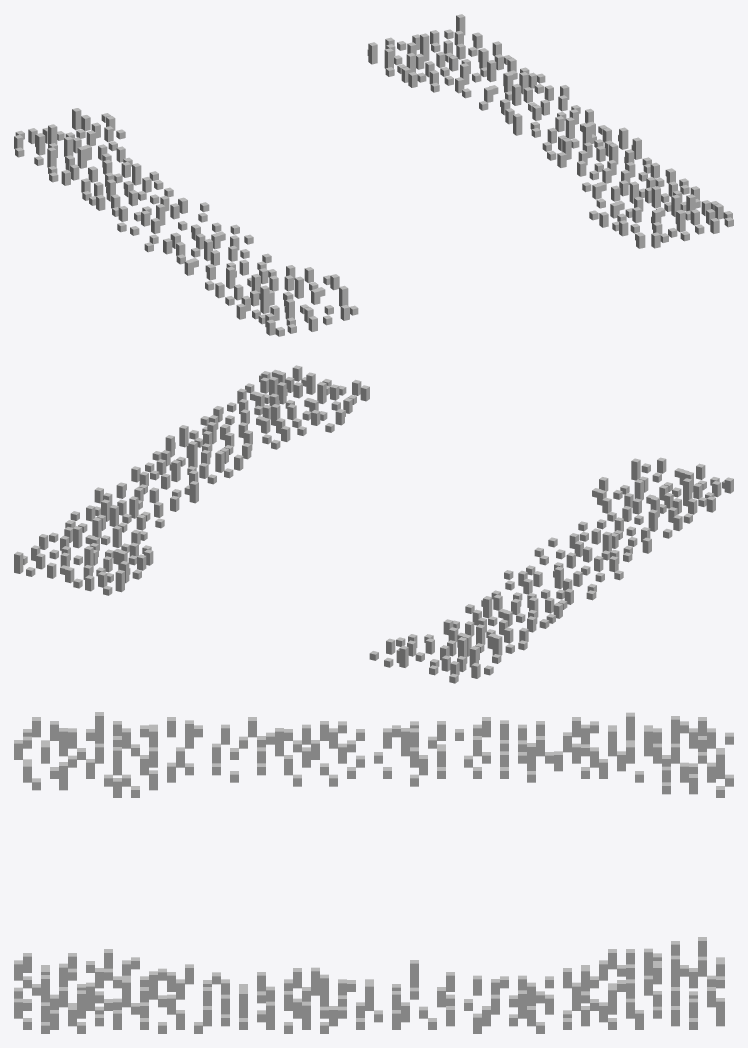
File: river_snow_1_overtile.glb
3 views of the same model, one above another, from view 1: azimuth 30°, elevation 25°; view 2: azimuth 150°, elevation 25°; view 3: azimuth 270°, elevation 25° (orthographic). The views are drawn at different scales.
Visible parts, largest first — view 1: river_snow_1_overtile; view 2: river_snow_1_overtile; view 3: river_snow_1_overtile.
Part boxes in pixels (box(x1,y1,x2,y2)): river_snow_1_overtile: box(14, 14, 733, 336); river_snow_1_overtile: box(14, 365, 733, 683); river_snow_1_overtile: box(14, 712, 733, 1033).
Size of the model in its own units: 8 by 0.4 by 8.
Materials: 1 (1 with a texture image).
